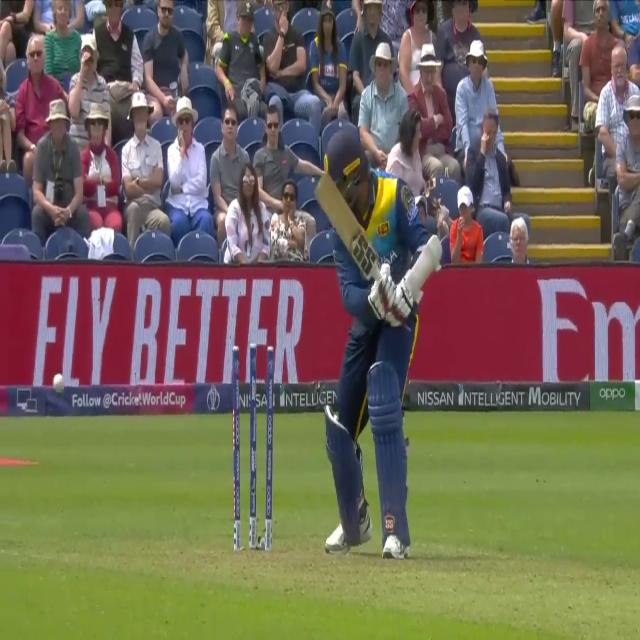ball: (50, 368, 68, 400)
